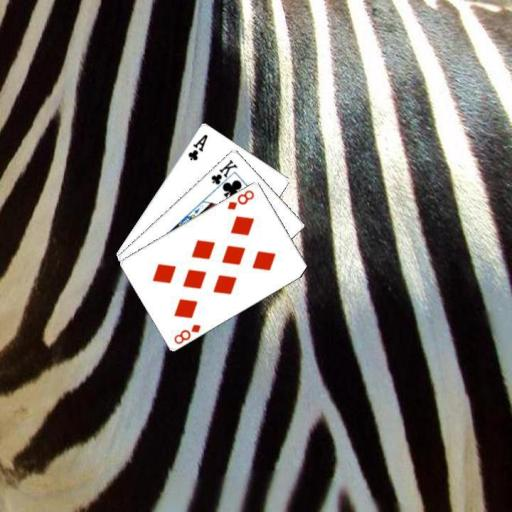card-corner: (208, 156, 239, 192), (224, 186, 256, 212), (170, 320, 202, 346), (185, 131, 209, 161)
